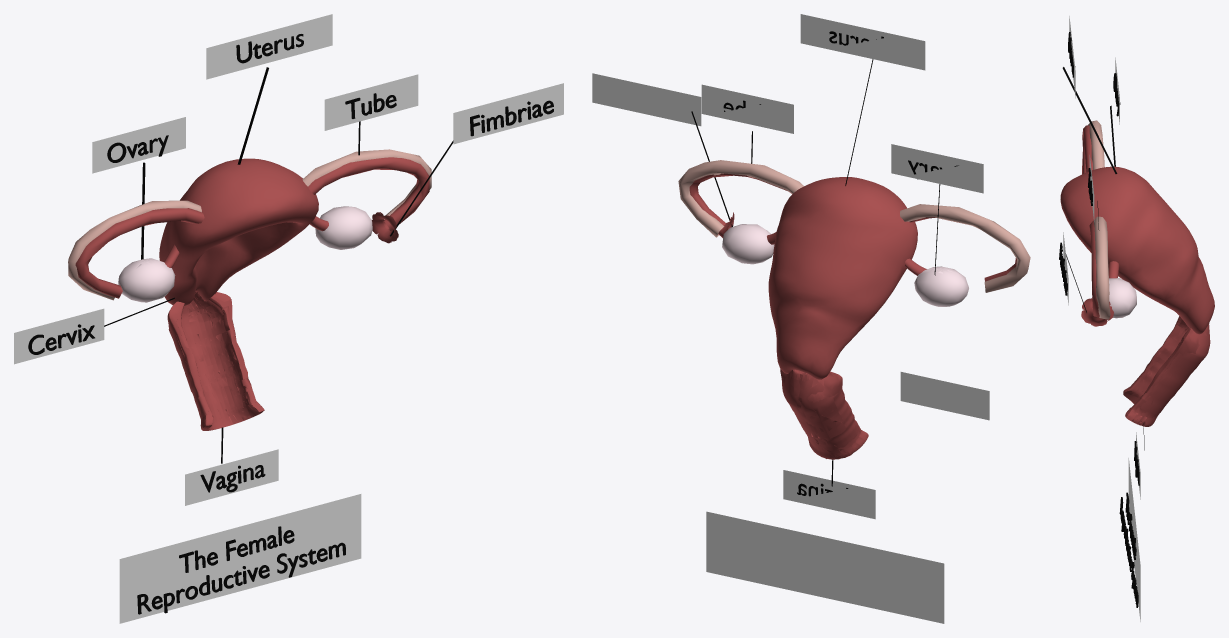
Rendered from uterus.gltf.
The picture shows the model from 3 angles, left to right: view 1: azimuth 30°, elevation 25°; view 2: azimuth 150°, elevation 25°; view 3: azimuth 270°, elevation 25°; orthographic projection. The views are drawn at different scales.
Visible parts, largest first — view 1: Plane.043, WOMB, OVARIES, Plane.005, Object_7.001, Text.022, Plane.002, Object_6.002, Plane.003, Plane.011, Plane.009, Plane.007 (+7 smaller); view 2: WOMB, Plane.043, Plane.005, OVARIES, Plane.002, Plane.003, Plane.011, Plane.007, Plane.009, TUBE_L, TUBE_R, Object_6.002 (+2 smaller); view 3: WOMB, Object_4.001, TUBE_R, Object_6.002, OVARIES, Text.022, Object_5.001, Plane.043, TUBE_L, TUBE_R.001, Material2.767, TUBE_L.001 (+1 smaller).
Part boxes in pixels (x1,y1,x2,y2): Plane.043: [119, 494, 361, 623]; WOMB: [159, 158, 318, 305]; OVARIES: [118, 206, 372, 302]; Plane.005: [206, 14, 332, 79]; Object_7.001: [182, 292, 264, 430]; Text.022: [137, 526, 345, 614]; Plane.002: [453, 83, 563, 144]; Object_6.002: [168, 292, 264, 430]; Plane.003: [324, 74, 418, 130]; Plane.011: [92, 117, 185, 173]; Plane.009: [185, 449, 278, 505]; Plane.007: [14, 308, 104, 364]; WOMB: [768, 177, 917, 379]; Plane.043: [706, 511, 944, 623]; Plane.005: [800, 14, 925, 70]; OVARIES: [722, 224, 968, 306]; Plane.002: [592, 73, 701, 126]; Plane.003: [701, 84, 793, 133]; Plane.011: [891, 144, 983, 193]; Plane.007: [900, 372, 989, 420]; Plane.009: [783, 470, 875, 519]; TUBE_L: [900, 204, 1030, 292]; TUBE_R: [678, 160, 803, 237]; Object_6.002: [780, 369, 859, 459]; WOMB: [1060, 166, 1214, 334]; Object_4.001: [1123, 316, 1210, 426]; TUBE_R: [1093, 216, 1110, 319]; Object_6.002: [1125, 328, 1208, 426]; OVARIES: [1092, 278, 1136, 318]; Text.022: [1119, 492, 1138, 607]; Object_5.001: [1123, 324, 1209, 426]; Plane.043: [1128, 458, 1140, 621]; TUBE_L: [1088, 120, 1104, 169]; TUBE_R.001: [1089, 221, 1099, 317]; Material2.767: [1081, 298, 1113, 326]; TUBE_L.001: [1082, 125, 1092, 174].
Bounding box in the file's own units: 4.97 × 5.72 × 1.54.
